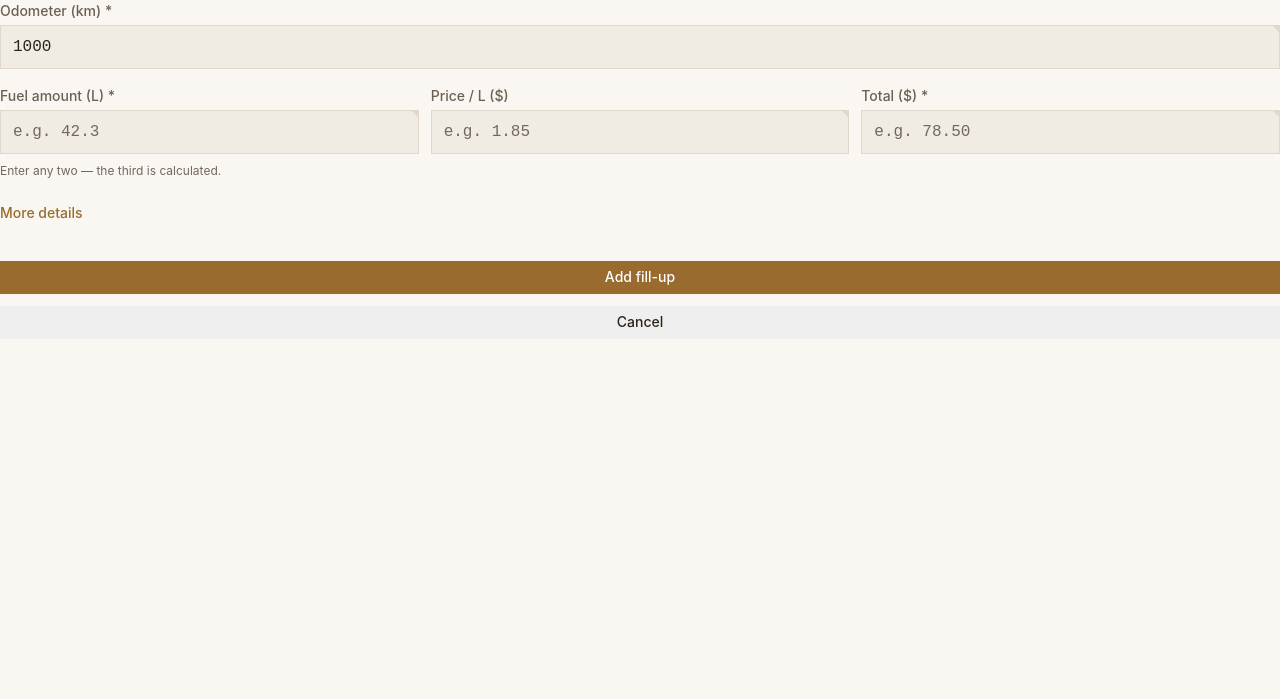
QuickFillForm › hides efficiency when the current fill-up is partial
Replace the text in the field labelled "Odometer (km) *" with "1500" at (640, 47), box top-left (0, 25), bottom-right (1279, 69)
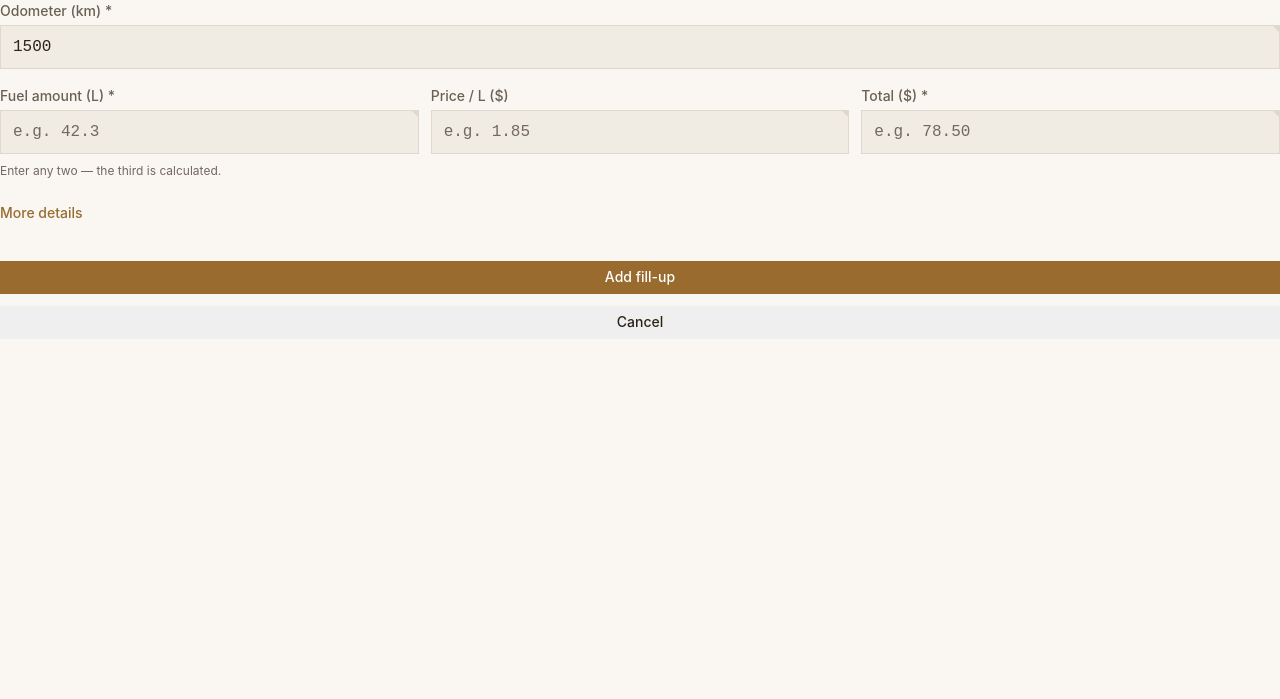
Type "40" into the field labelled "Fuel amount (L) *" at (209, 132), box top-left (0, 110), bottom-right (419, 154)
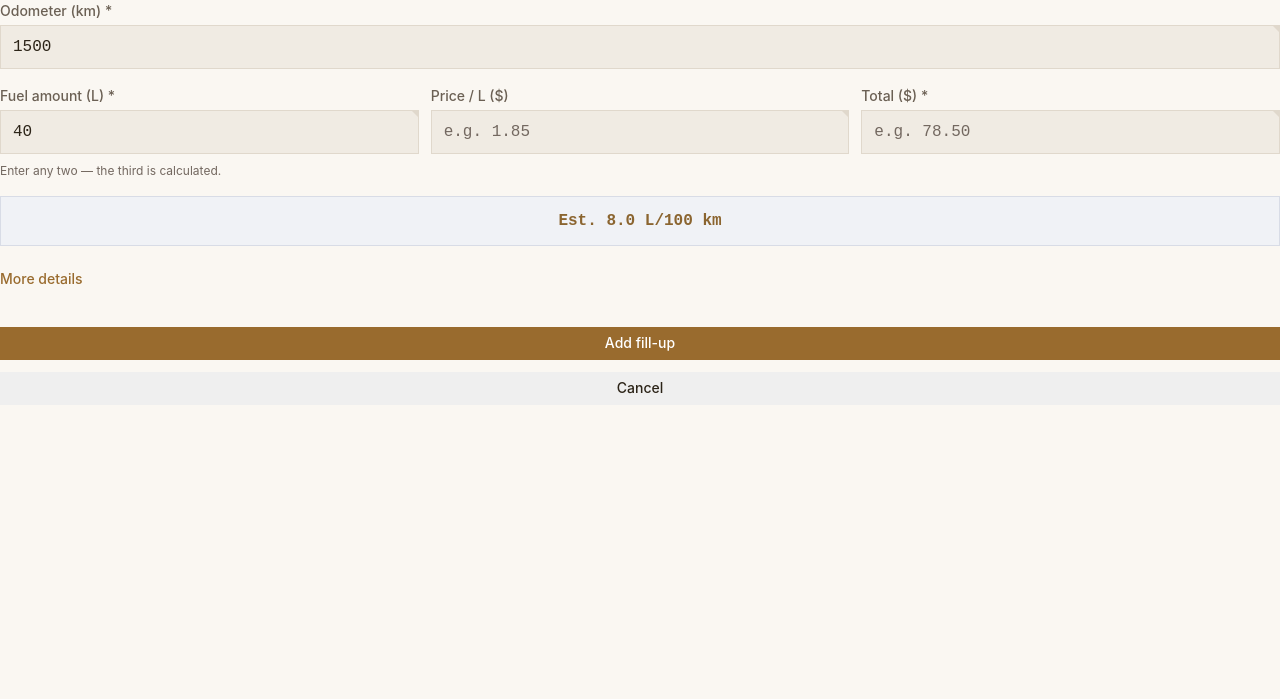
Check: the text "Est. 8.0 L/100 km" is shown, box top-left (0, 196), bottom-right (1279, 246)
Click the button "More details" at (41, 278), box top-left (0, 262), bottom-right (83, 295)
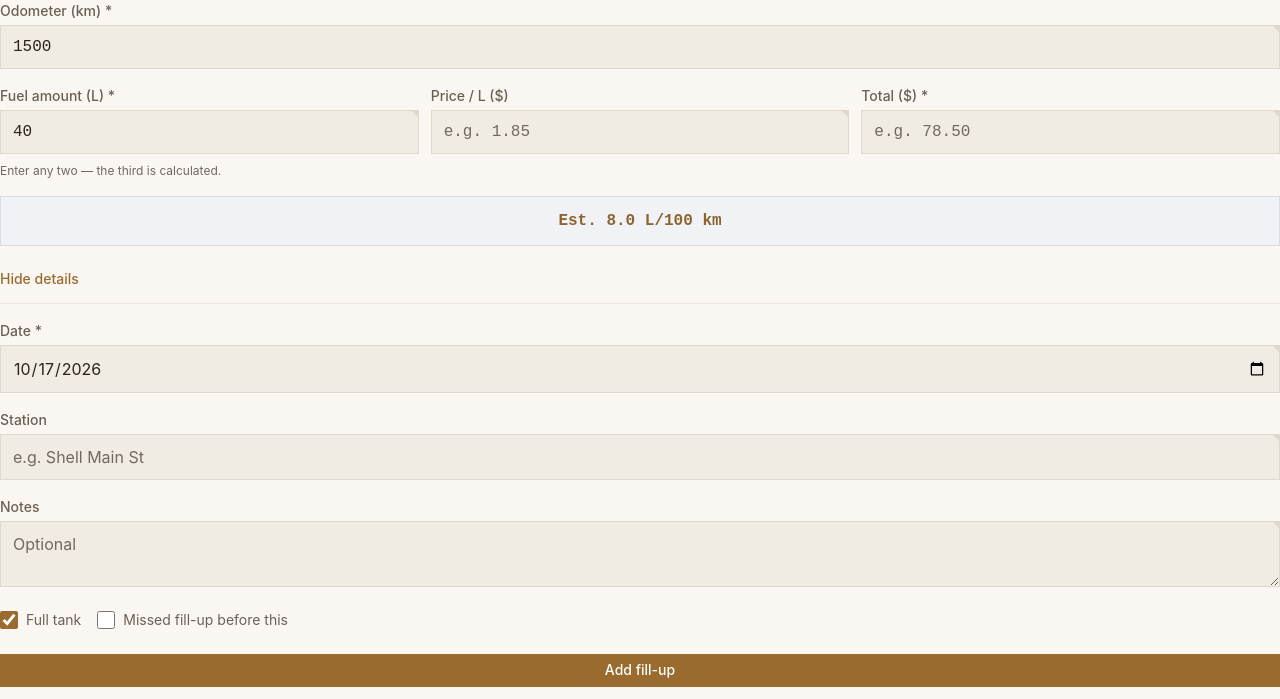
Click the checkbox labelled "Full tank" at (9, 620), box top-left (0, 610), bottom-right (18, 628)
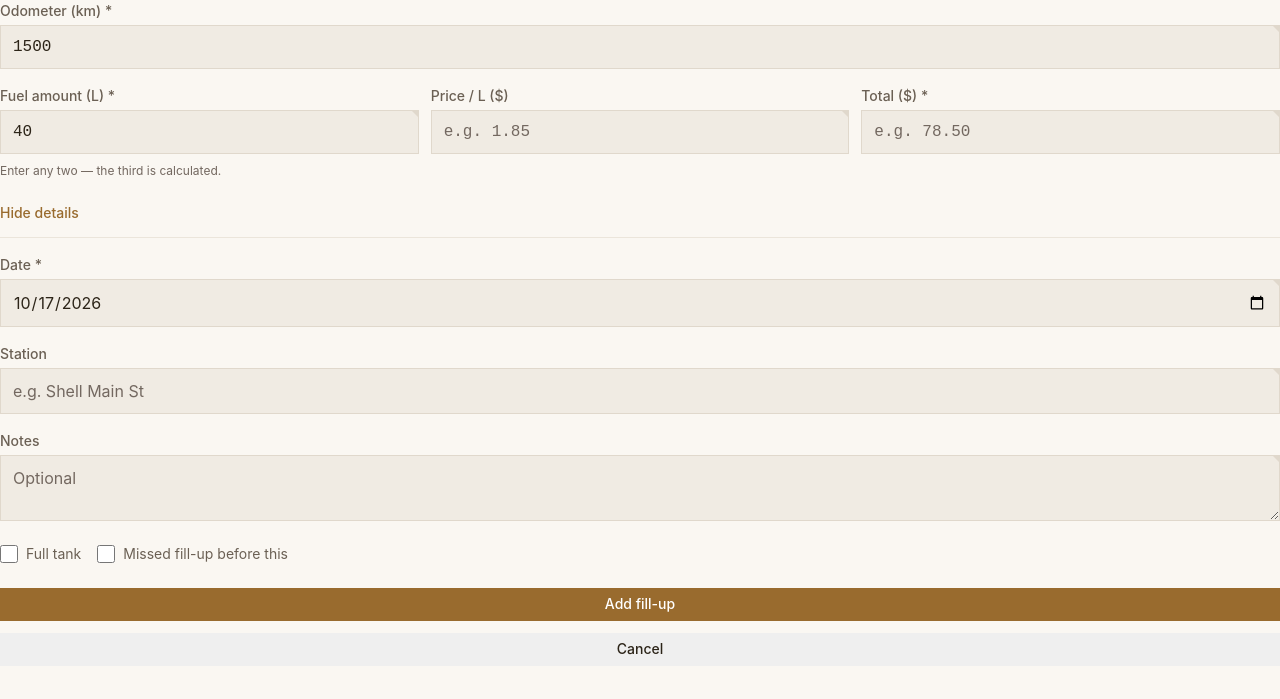
Check: the text "Est." is gone
